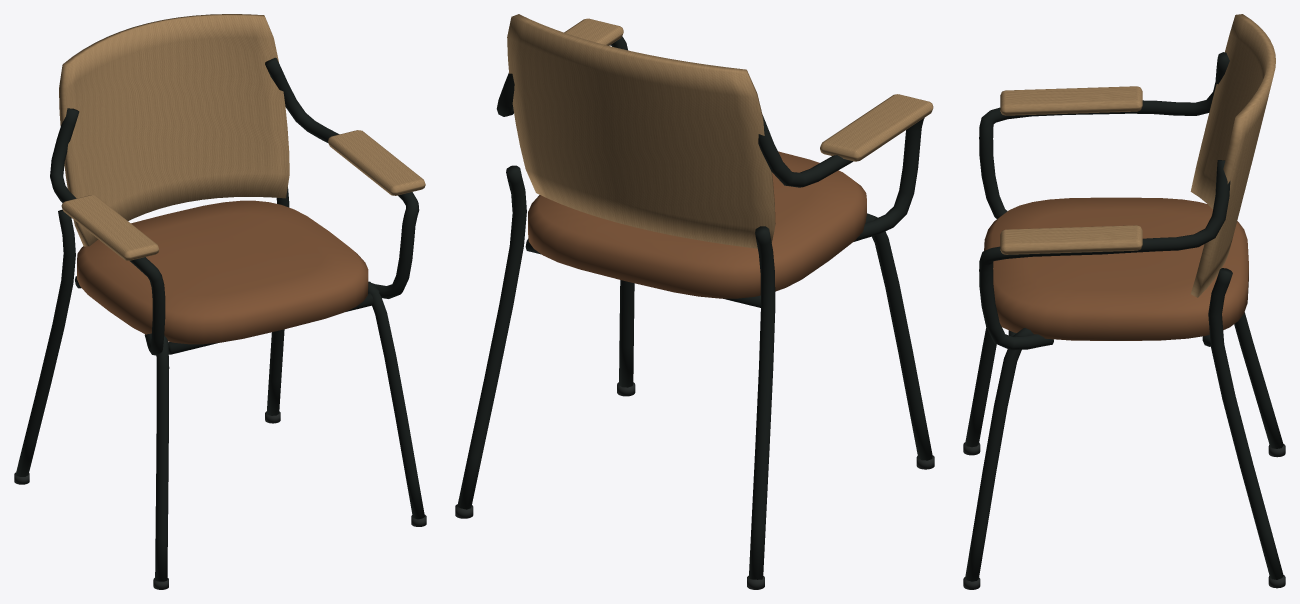
3 views of the same model, side by side, from view 1: azimuth 30°, elevation 25°; view 2: azimuth 150°, elevation 25°; view 3: azimuth 270°, elevation 25° (orthographic). The views are drawn at different scales.
Parts seen in each view (by area): view 1: Curved natural wood backrest, Caramel upholstered rounded seat, Front leg -1, Leg floor glide; view 2: Curved natural wood backrest, Caramel upholstered rounded seat, Front leg -1, Leg floor glide; view 3: Caramel upholstered rounded seat, Front leg -1, Curved natural wood backrest, Leg floor glide.
Part boxes in pixels (<box>): Curved natural wood backrest: <box>59,14,425,260</box>; Caramel upholstered rounded seat: <box>77,200,368,344</box>; Front leg -1: <box>16,57,424,581</box>; Leg floor glide: <box>14,411,426,589</box>; Curved natural wood backrest: <box>507,14,933,248</box>; Caramel upholstered rounded seat: <box>528,151,866,298</box>; Front leg -1: <box>457,36,932,579</box>; Leg floor glide: <box>455,382,934,589</box>; Caramel upholstered rounded seat: <box>984,197,1248,340</box>; Front leg -1: <box>965,52,1283,581</box>; Curved natural wood backrest: <box>1000,14,1275,297</box>; Leg floor glide: <box>963,442,1285,589</box>.
Bounding box in the file's own units: 0.625 × 0.8508 × 0.54.
Materials: 4 (1 with a texture image).
